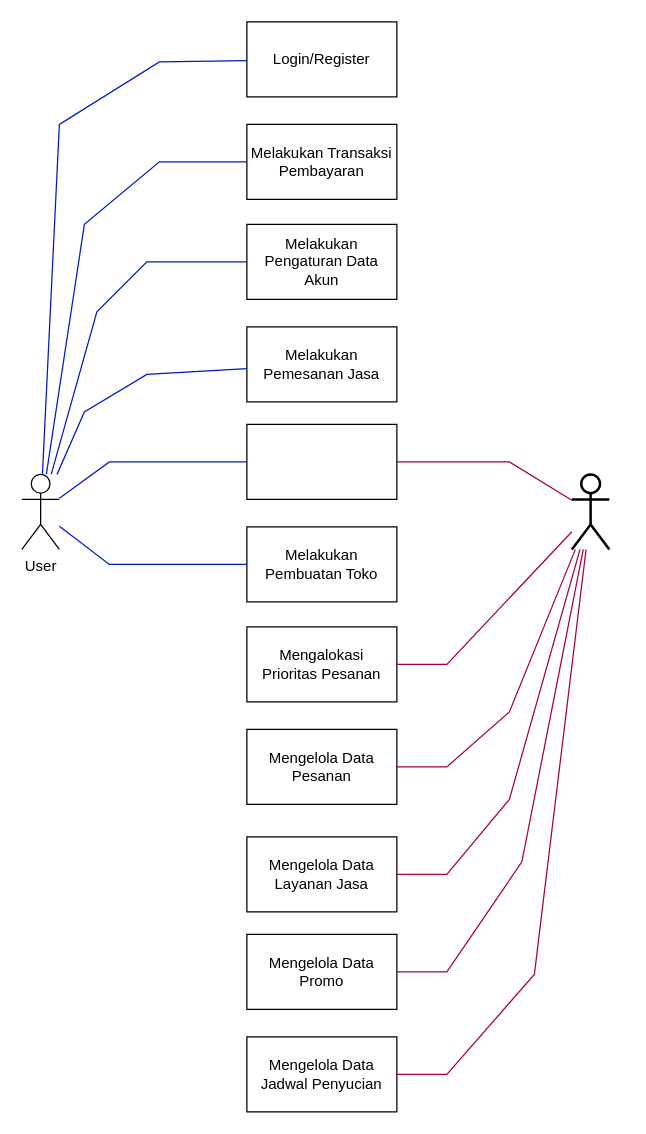
This 646x1134 diagram has some shape labels left out. Here are the shapes that lost their labels. From the top down, the box of each, then its label:
(246, 423, 397, 499): Melihat Data Riwayat Transaksi
(570, 472, 610, 550): User Toko
